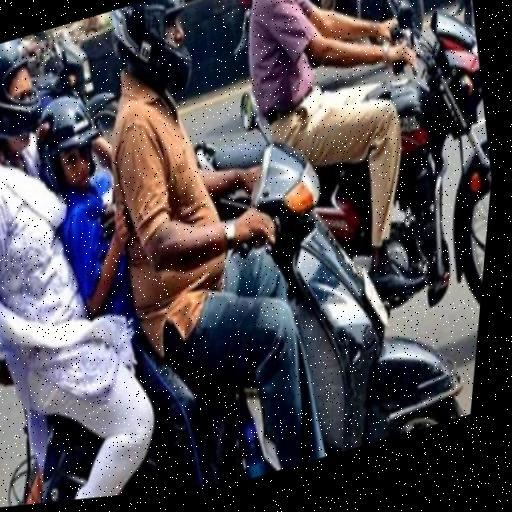Helmet: (24, 84, 118, 206), (107, 8, 223, 97), (0, 34, 50, 151)
Motor: (0, 165, 437, 481)
